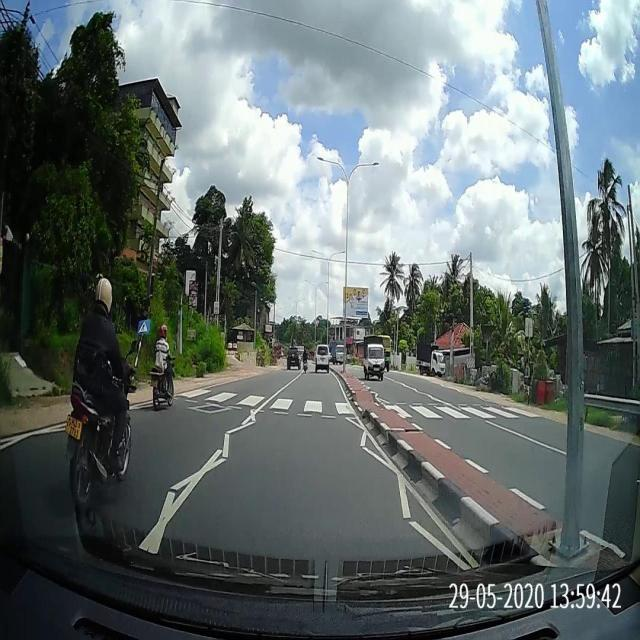Crosswalk: (174, 385, 549, 423)
